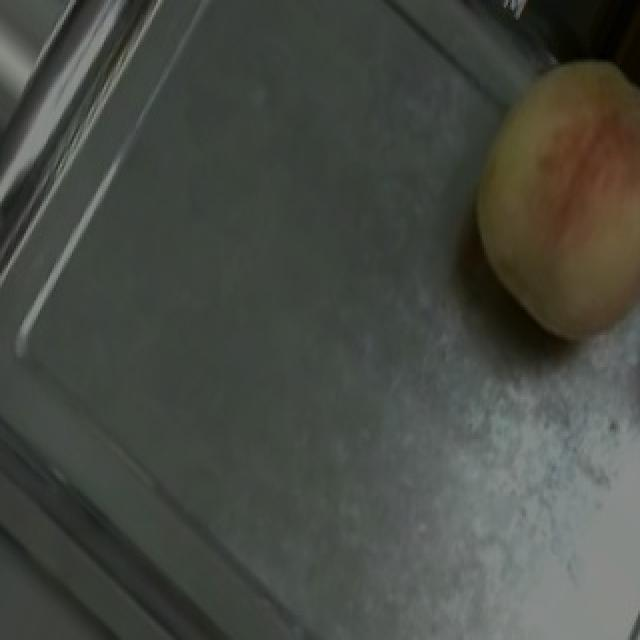Fruit: (426, 39, 640, 374)
